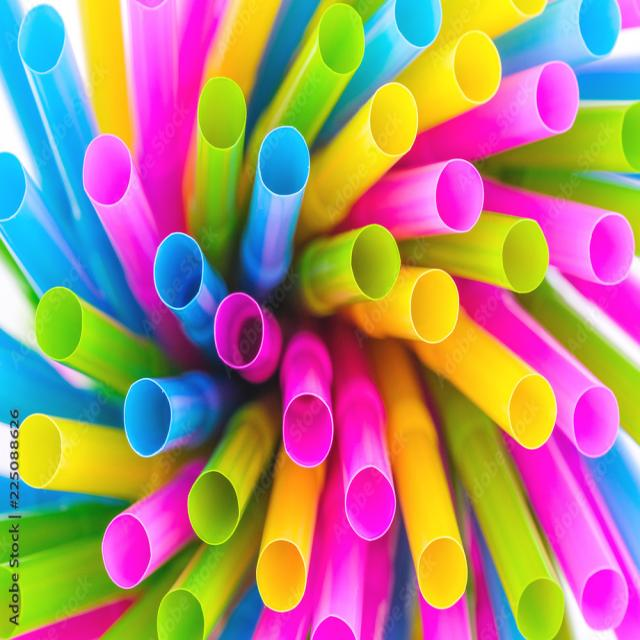plastic: (25, 270, 134, 390)
